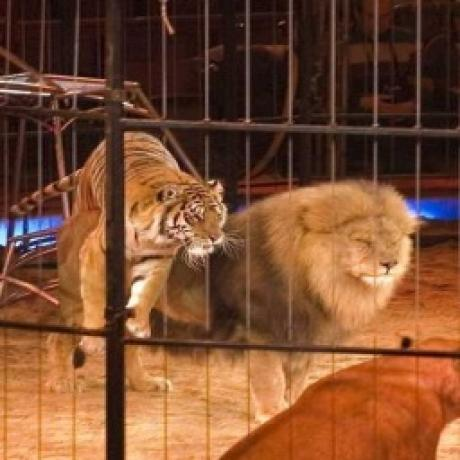Lion: (172, 175, 426, 410)
